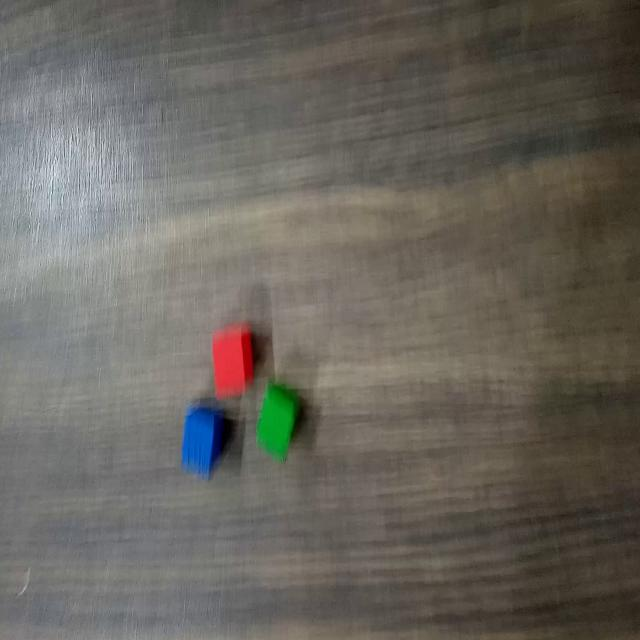cube: (254, 380, 301, 467), (208, 323, 255, 401), (178, 401, 222, 481)
